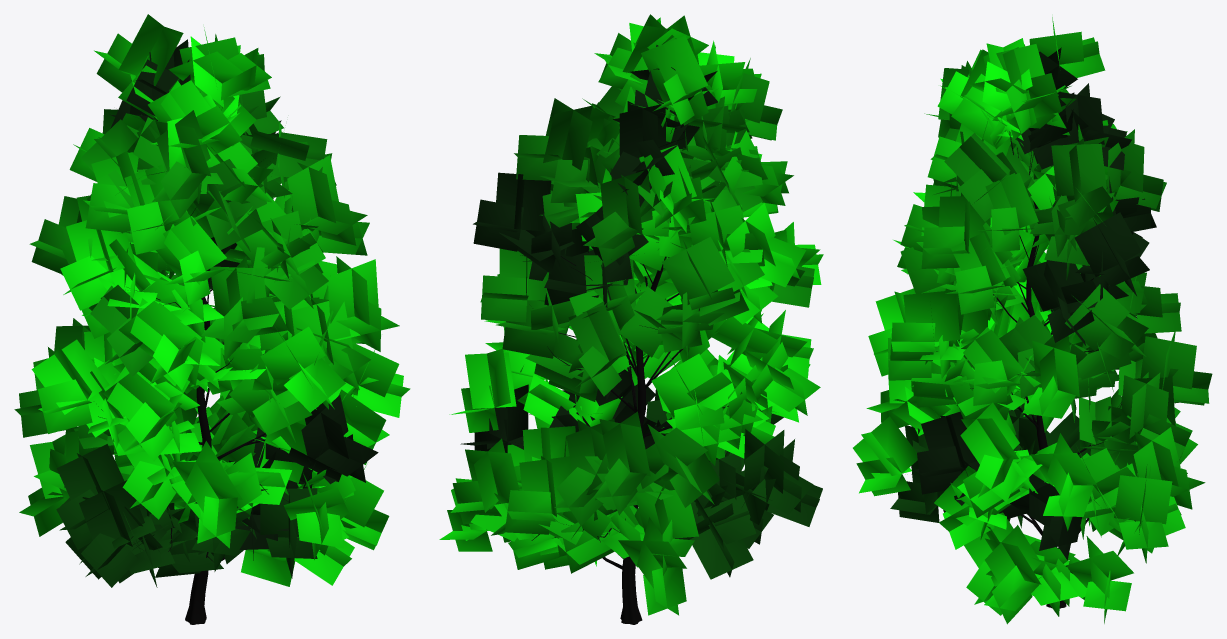
The model's file is Type_1_4.fbx.
The picture shows the model from 3 angles, left to right: view 1: azimuth 30°, elevation 25°; view 2: azimuth 150°, elevation 25°; view 3: azimuth 270°, elevation 25°; orthographic projection. The views are drawn at different scales.
Parts seen in each view (by area): view 1: Type_1_4; view 2: Type_1_4; view 3: Type_1_4.
Boxes of the visible parts, x1=… form: Type_1_4: x1=14, y1=14, x2=410, y2=624; Type_1_4: x1=439, y1=14, x2=823, y2=624; Type_1_4: x1=853, y1=17, x2=1212, y2=624.
Bounding box in the file's own units: 356 × 595 × 343.
